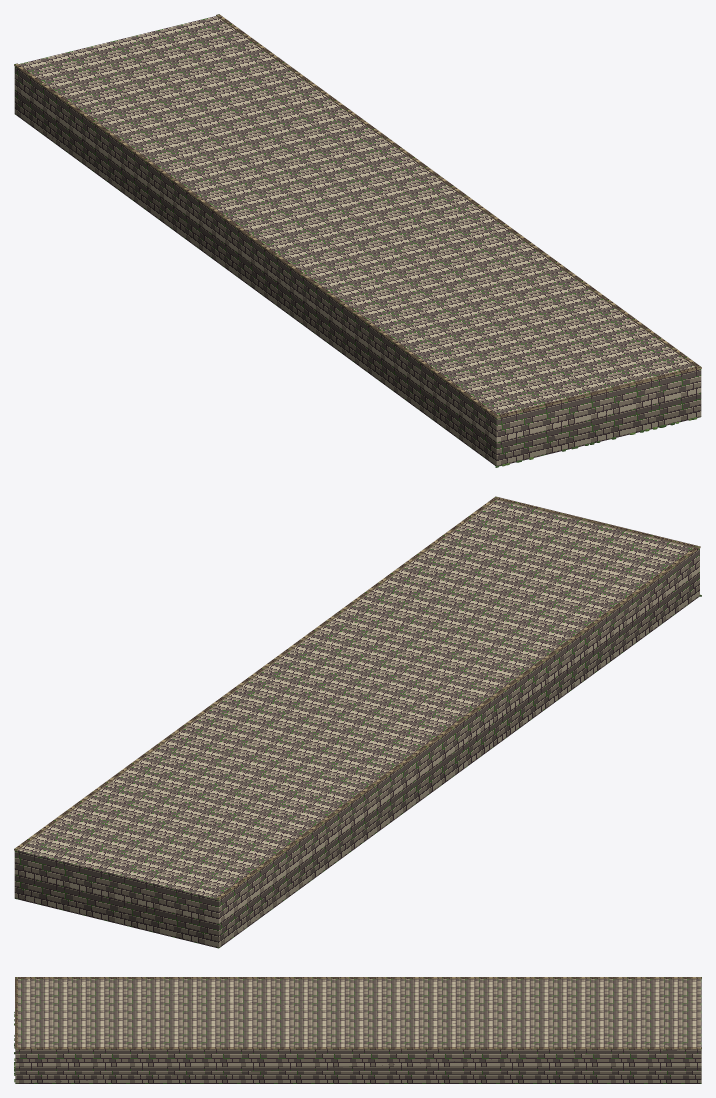
The model's file is scene_wall_e.glb.
3 views of the same model, one above another, from view 1: azimuth 30°, elevation 25°; view 2: azimuth 150°, elevation 25°; view 3: azimuth 270°, elevation 25° (orthographic). The views are drawn at different scales.
Parts seen in each view (by area): view 1: scene_wall_e; view 2: scene_wall_e; view 3: scene_wall_e.
Part boxes in pixels (x1=…): scene_wall_e: x1=14, y1=14, x2=701, y2=467; scene_wall_e: x1=14, y1=496, x2=701, y2=948; scene_wall_e: x1=14, y1=977, x2=701, y2=1083.
Size of the model in its own units: 22.03 by 5.17 by 89.24.
Materials: 2 (1 with a texture image).
